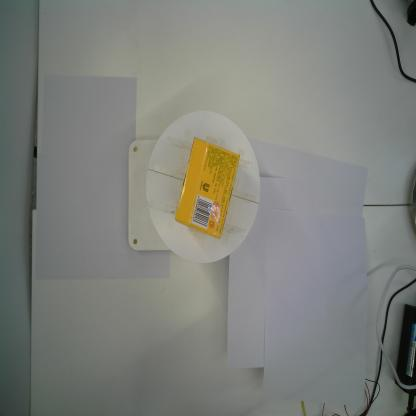Instant Drink: (174, 136, 241, 240)
